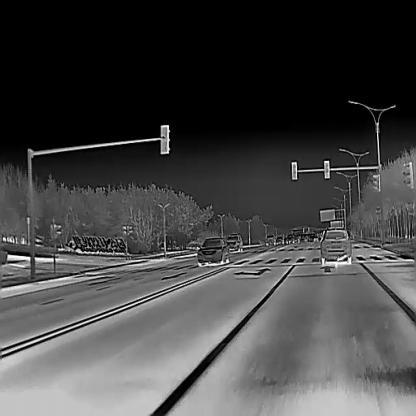car: (318, 227, 353, 263), (197, 236, 230, 265), (226, 232, 243, 252), (265, 234, 276, 245), (276, 235, 284, 245), (285, 235, 294, 242), (299, 237, 305, 242), (294, 237, 299, 242)
